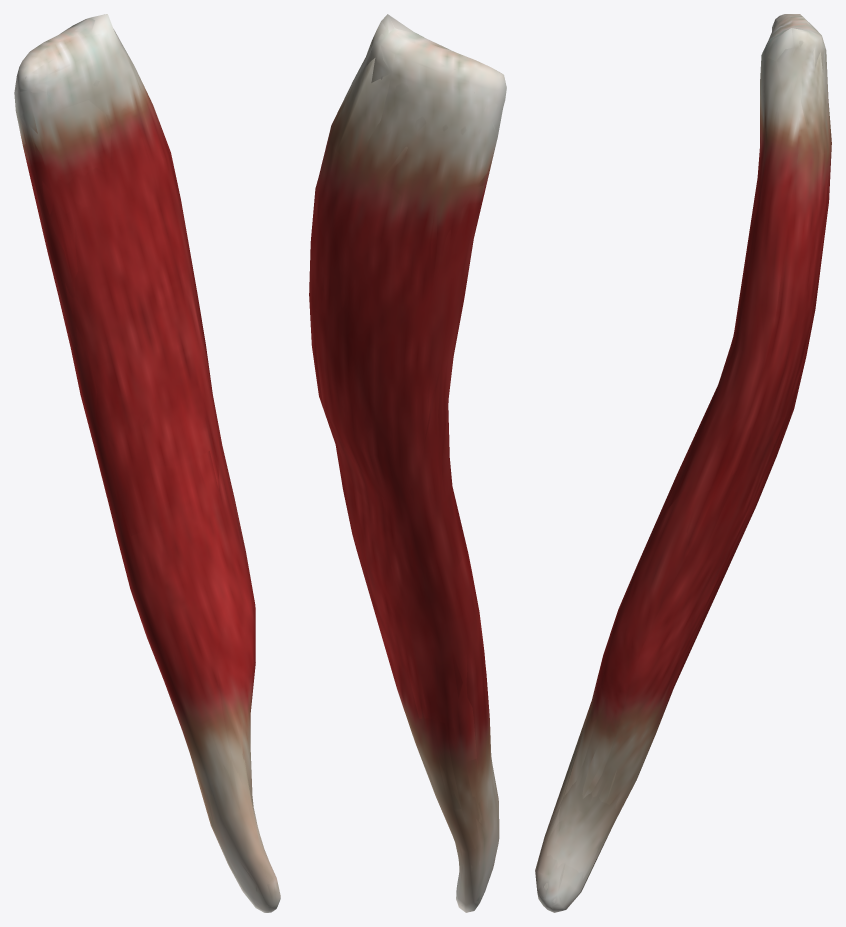
The model's file is L Semitendinosus.fbx.
3 views of the same model, side by side, from view 1: azimuth 30°, elevation 25°; view 2: azimuth 150°, elevation 25°; view 3: azimuth 270°, elevation 25° (orthographic). The views are drawn at different scales.
Parts seen in each view (by area): view 1: L Semitendinosus, L Semitendinosus low, L Semitendinosus high; view 2: L Semitendinosus, L Semitendinosus low, L Semitendinosus high; view 3: L Semitendinosus, L Semitendinosus low, L Semitendinosus high.
Boxes of the visible parts, bbox=[...] form: L Semitendinosus: bbox=[14, 14, 280, 912]; L Semitendinosus low: bbox=[14, 14, 278, 912]; L Semitendinosus high: bbox=[16, 22, 274, 909]; L Semitendinosus: bbox=[309, 15, 506, 912]; L Semitendinosus low: bbox=[315, 14, 505, 909]; L Semitendinosus high: bbox=[313, 31, 499, 906]; L Semitendinosus: bbox=[535, 14, 831, 912]; L Semitendinosus low: bbox=[535, 17, 830, 912]; L Semitendinosus high: bbox=[544, 22, 829, 904].
Size of the model in its own units: 2.46 by 11.59 by 3.62.
Materials: 1 (1 with a texture image).
